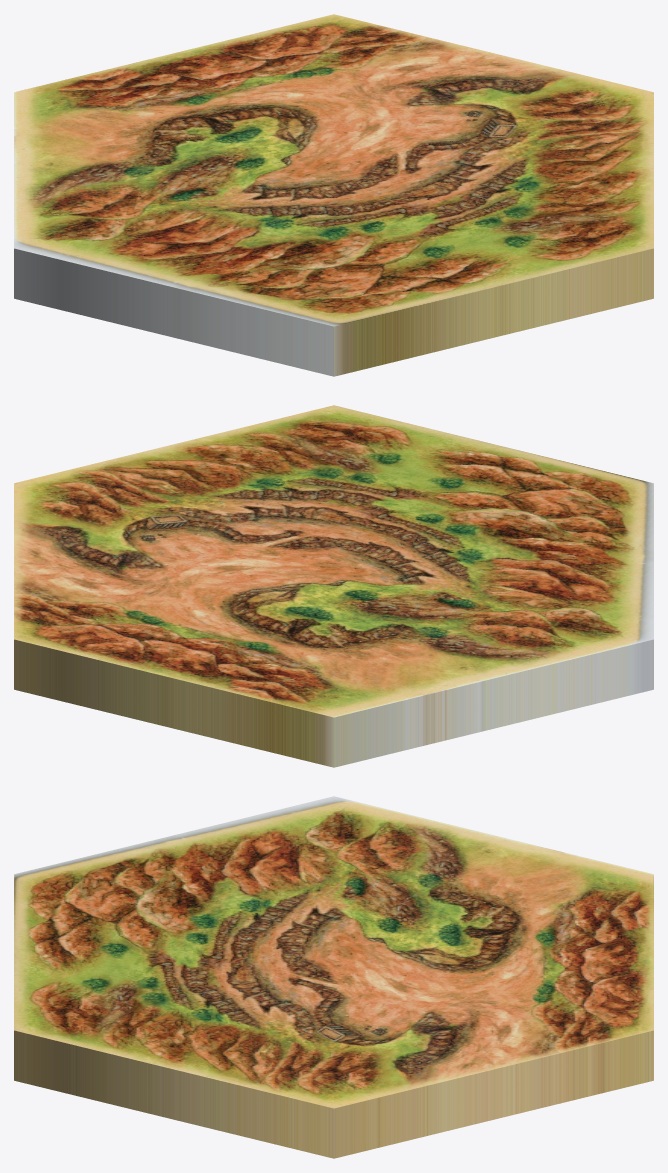
File: brick.DAE
The picture shows the model from 3 angles, top to bottom: view 1: azimuth 30°, elevation 25°; view 2: azimuth 150°, elevation 25°; view 3: azimuth 270°, elevation 25°; orthographic projection.
Parts seen in each view (by area): view 1: Desert; view 2: Desert; view 3: Desert.
Boxes of the visible parts, bbox=[...] form: Desert: bbox=[14, 14, 653, 376]; Desert: bbox=[14, 405, 653, 767]; Desert: bbox=[14, 796, 653, 1158].
Size of the model in its own units: 78.74 by 5.91 by 68.19.
